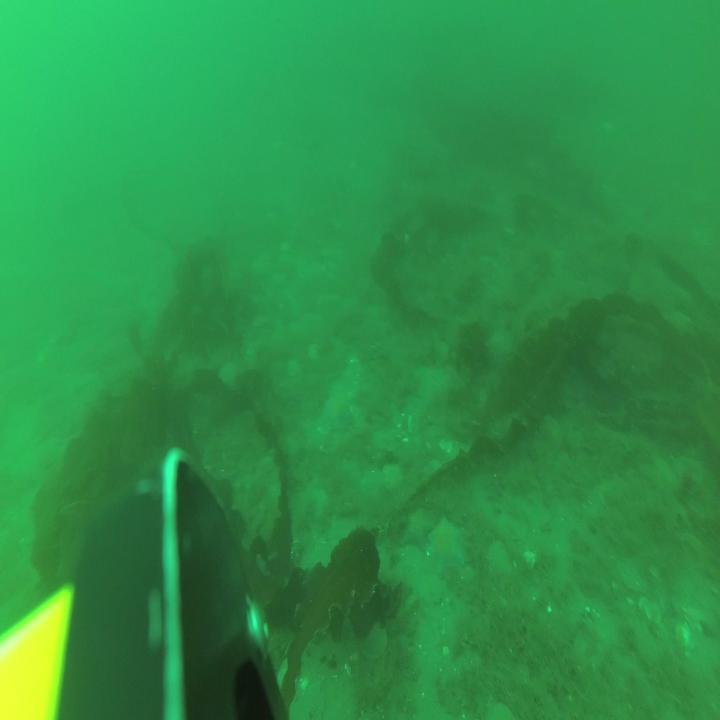scallop: (486, 535, 515, 583), (357, 621, 390, 663), (380, 456, 404, 494), (216, 358, 238, 387), (250, 312, 269, 330), (286, 358, 300, 379), (306, 340, 319, 362)
starfish: (426, 516, 467, 573), (320, 386, 354, 434), (403, 501, 432, 555)
